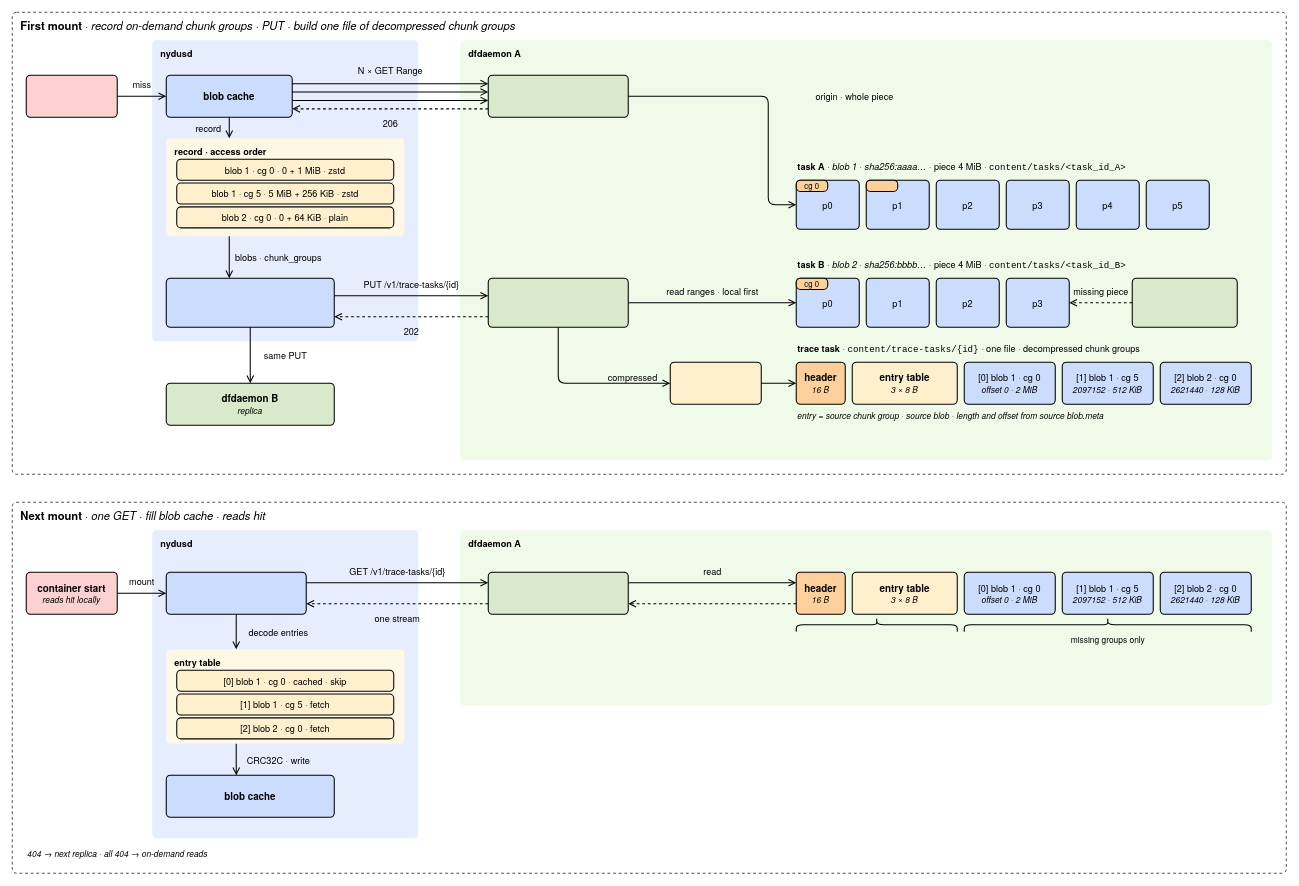
Image size: 1299x886. Some labels were removed from this diagram. Each missing label, with the centre of its shape:
cg 5: the point at 881,185
container read(): the point at 71,95
decompress per chunk group: the point at 715,382
dragonfly-sdk id = f(bootstrap digest): the point at 249,302
dragonfly-sdk same id: the point at 235,592
first Range → entries: the point at 876,624
peers / origin: the point at 1184,302
proxy: the point at 557,95
TraceTask: the point at 557,592
TraceTask build: the point at 557,302
